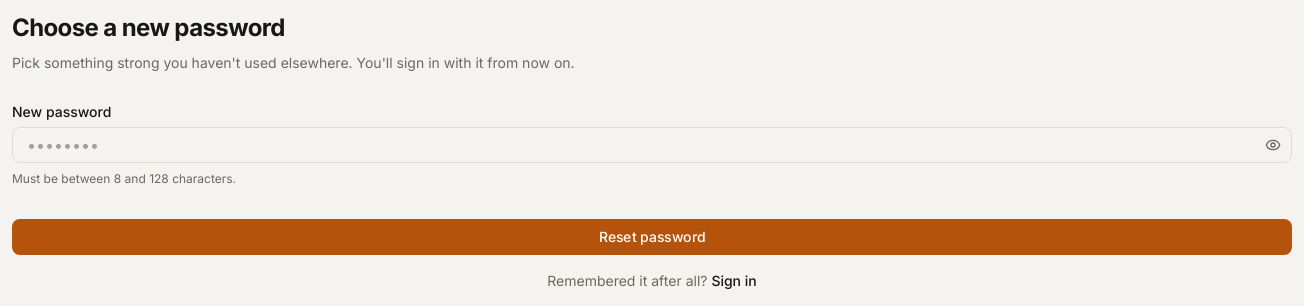
Test: ResetPasswordFlow — user behaviour › transitions to updated after successful reset
Type "new-sup3r-pass" into the password field labelled "New password" at (652, 145), box left=13, top=128, right=1291, bottom=162
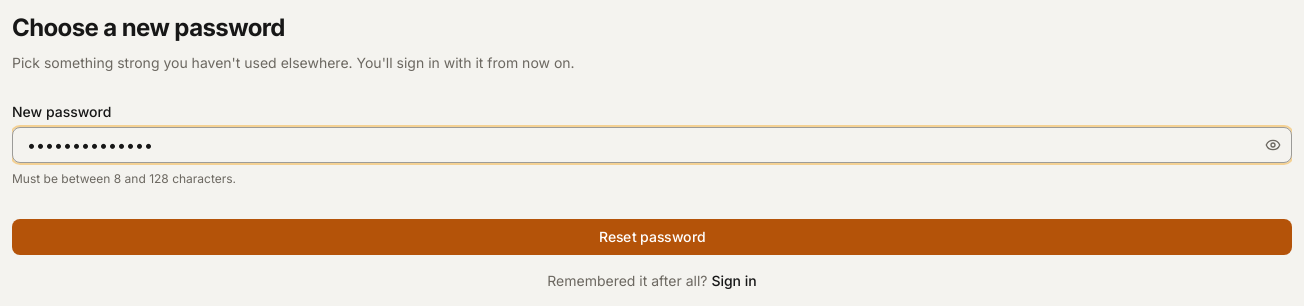
Click the button named "reset password" at (652, 237), box left=12, top=219, right=1292, bottom=255
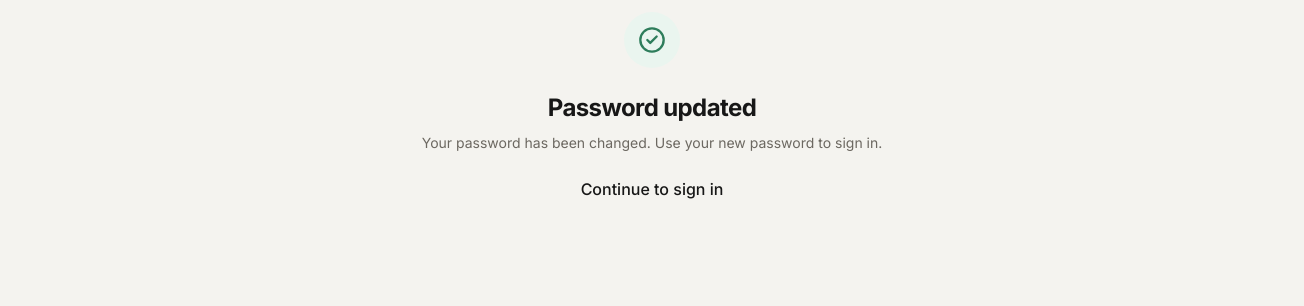
Check: the heading "Password updated" is shown, box left=548, top=93, right=756, bottom=122
Check: the text "Your password has been changed" is shown, box left=422, top=134, right=882, bottom=151
